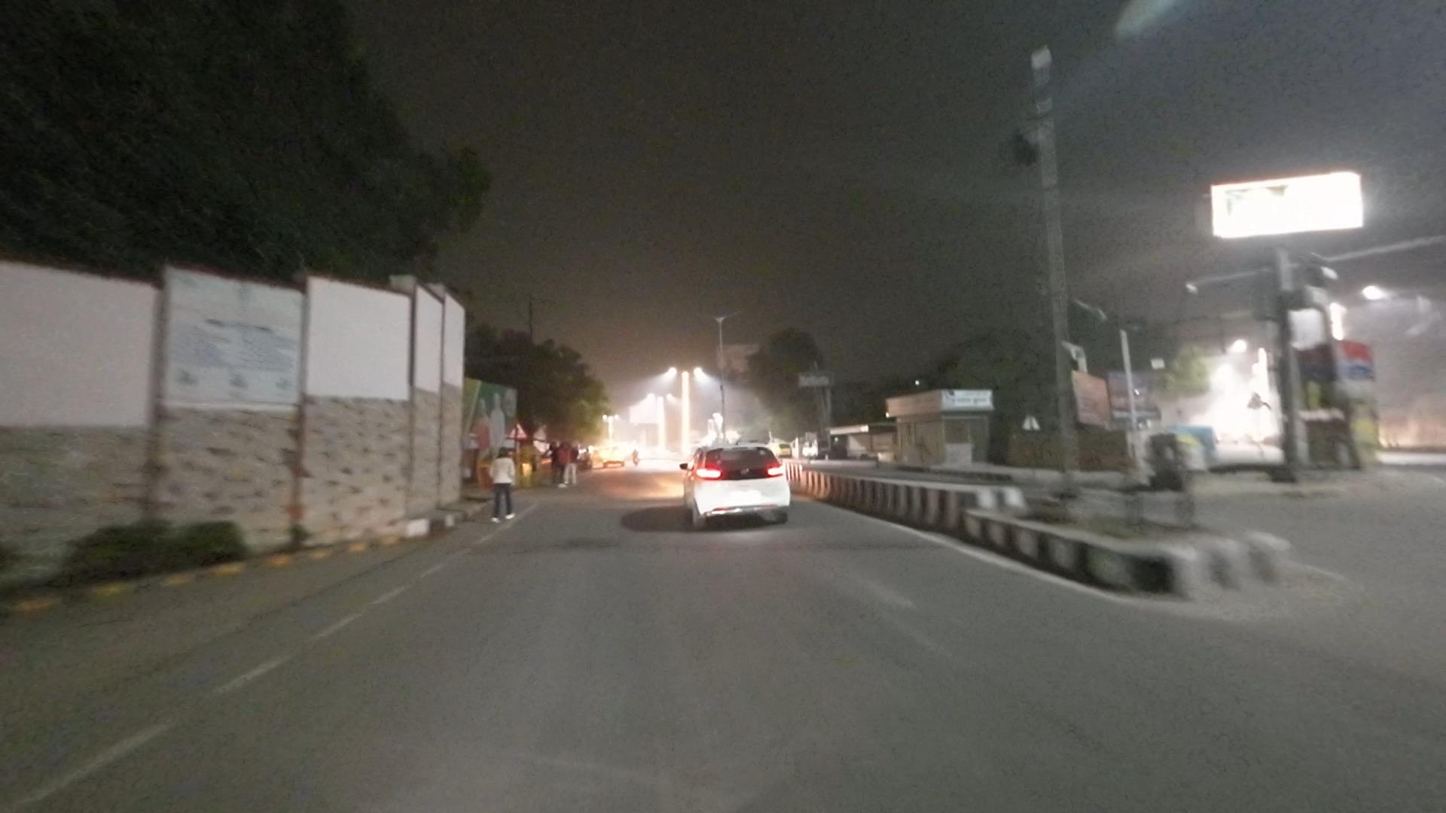streetlight: (724, 307, 745, 321), (693, 309, 716, 321)
